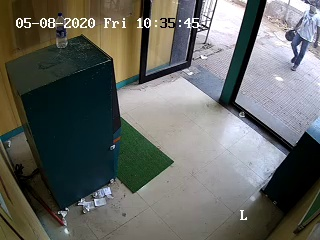open: (138, 4, 266, 109)
